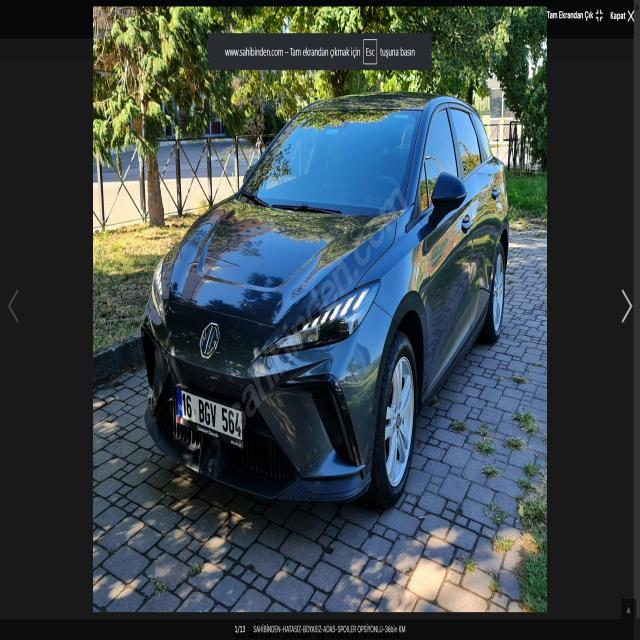mg: (196, 312, 225, 365)
